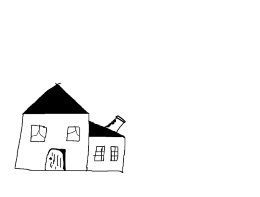bottom_placed_house: (2, 10, 260, 197)
chimney: (105, 112, 129, 134)
closed_window: (93, 143, 108, 164), (108, 144, 120, 162)
door: (43, 146, 69, 175)
open_window: (28, 120, 48, 146), (64, 124, 83, 145)
shaded_roof: (16, 80, 95, 120), (86, 113, 132, 140)
small_house: (1, 3, 260, 197)
wall: (13, 109, 91, 176)
